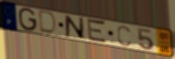5: (136, 26, 155, 51)
C: (117, 25, 133, 47)
D: (39, 9, 59, 36)
E: (86, 17, 108, 46)
G: (18, 7, 39, 33)
N: (64, 14, 86, 41)
